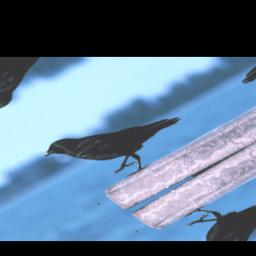Crow: (34, 90, 207, 196)
